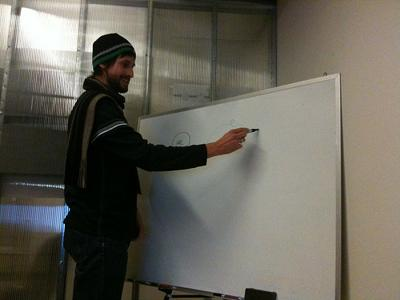person: (62, 34, 250, 300)
